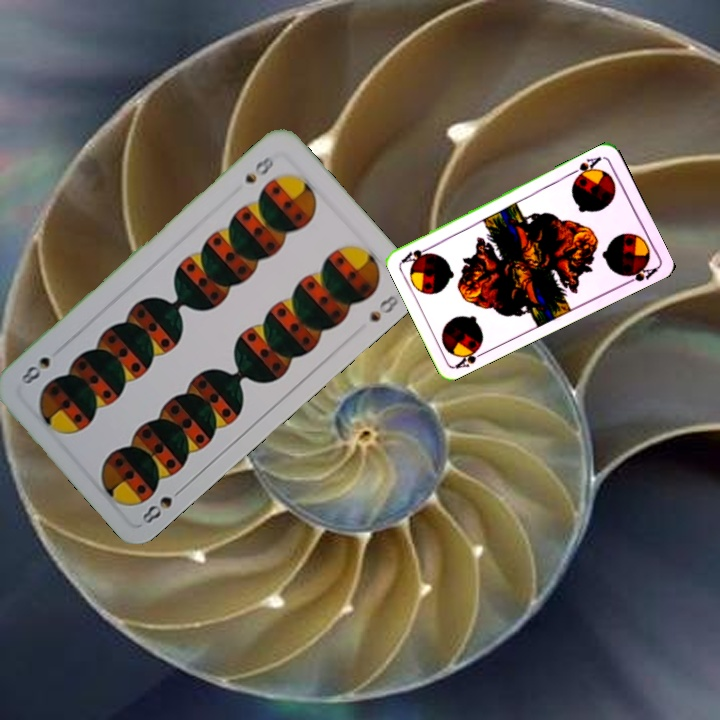S8: (137, 482, 188, 527), (241, 152, 277, 186)
SA: (451, 340, 490, 371), (567, 152, 604, 182)
